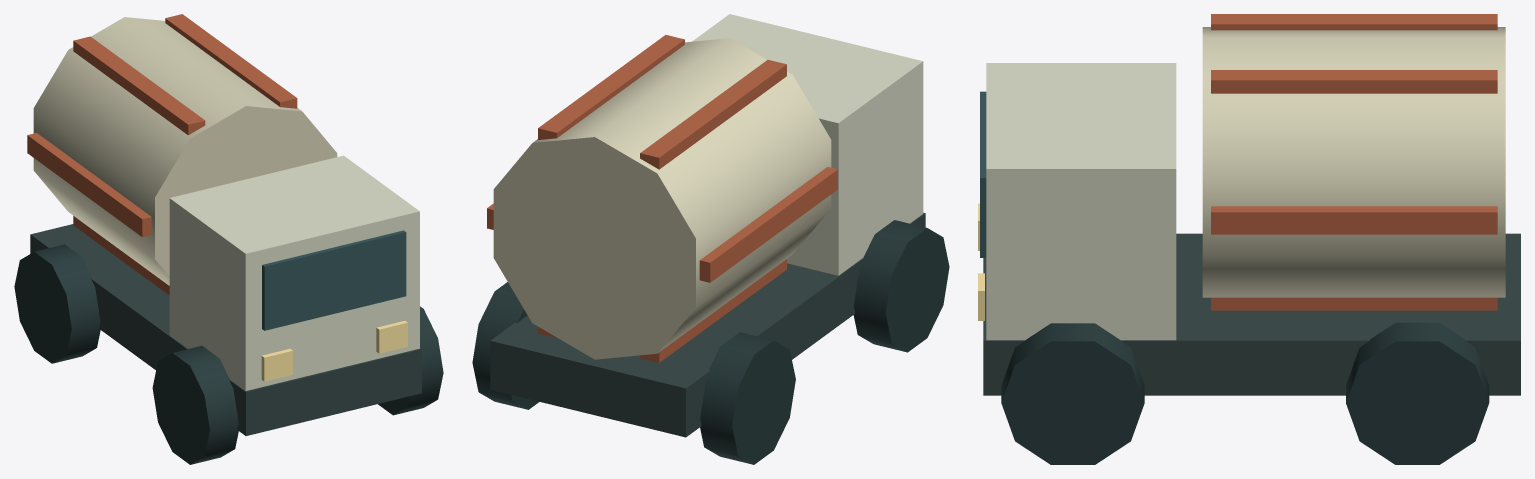
Rendered from mixer-truck.glb.
3 renders of one model, left to right at view 1: azimuth 30°, elevation 25°; view 2: azimuth 150°, elevation 25°; view 3: azimuth 270°, elevation 25°, orthographic. The views are drawn at different scales.
Parts seen in each view (by area): view 1: mixer-truck, drum, mixer-truck_293c3d, drum_b86644, mixer-truck_ffe8a4; view 2: drum, mixer-truck, mixer-truck_293c3d, drum_b86644; view 3: mixer-truck, drum, mixer-truck_293c3d, drum_b86644.
Part boxes in pixels (x1,y1,x2,y2): mixer-truck: [30, 155, 421, 435]; drum: [33, 17, 337, 285]; mixer-truck_293c3d: [14, 244, 443, 464]; drum_b86644: [27, 14, 297, 295]; mixer-truck_ffe8a4: [261, 321, 407, 381]; drum: [493, 38, 831, 359]; mixer-truck: [490, 14, 925, 437]; mixer-truck_293c3d: [472, 220, 949, 464]; drum_b86644: [487, 35, 837, 362]; mixer-truck: [980, 63, 1520, 395]; drum: [1202, 27, 1505, 297]; mixer-truck_293c3d: [1001, 322, 1489, 464]; drum_b86644: [1211, 14, 1497, 310].
Size of the model in its own units: 1.22 by 1.43 by 1.97.
